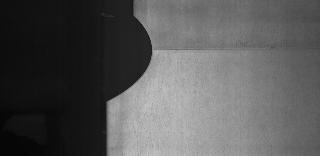welding line: (153, 43, 317, 55)
